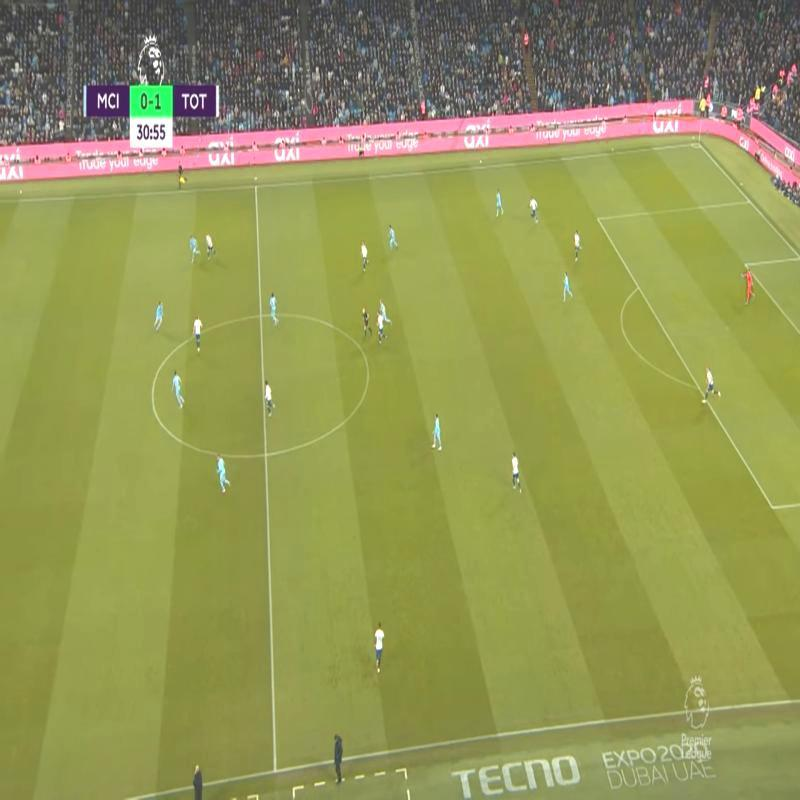1: (690, 136, 706, 152)
10: (631, 281, 646, 295)
11: (692, 382, 706, 397)
12: (765, 500, 780, 515)
13: (249, 178, 265, 192)
14: (253, 308, 268, 324)
15: (258, 446, 274, 462)
16: (266, 760, 284, 781)
2: (742, 192, 756, 210)
7: (738, 254, 752, 274)
9: (591, 212, 605, 226)
c: (362, 358, 374, 380), (145, 388, 160, 404)
